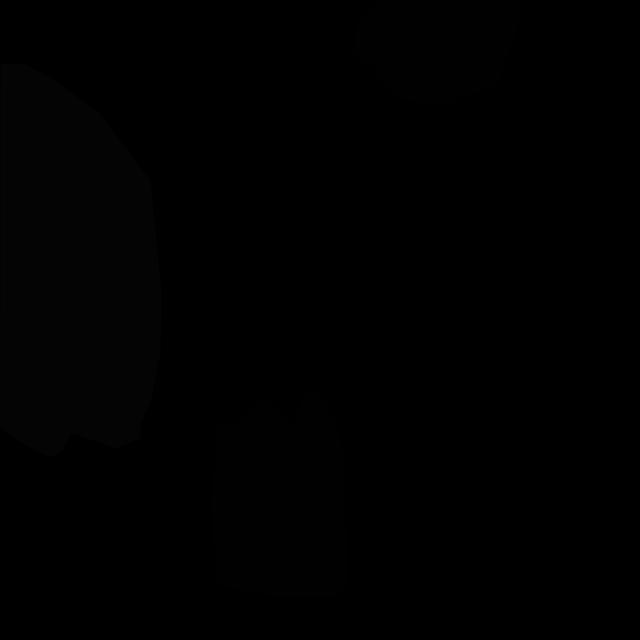rigid_plastic: (211, 393, 348, 598), (354, 0, 520, 107)
soft_plastic: (0, 63, 162, 457)
